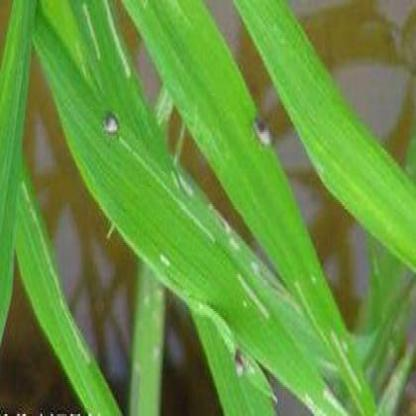rice-bug: (254, 118, 272, 146), (233, 348, 246, 378), (103, 112, 119, 134)
